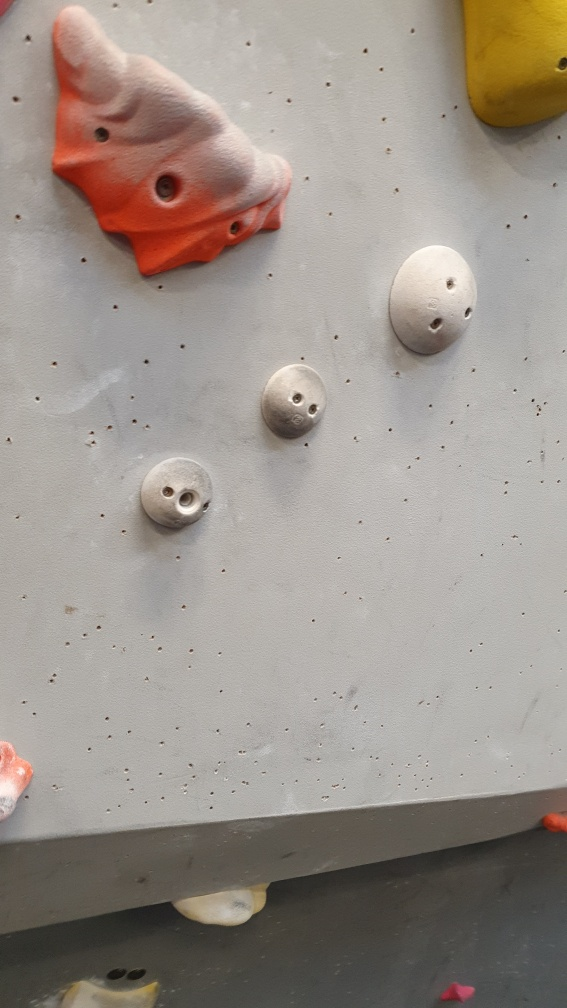Jug: (41, 1, 300, 284)
Sloper: (392, 240, 484, 356), (265, 357, 332, 442), (142, 456, 212, 530)
